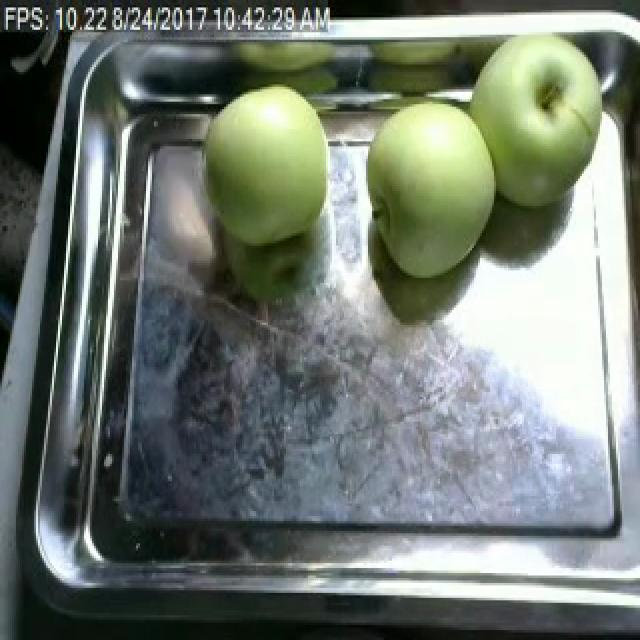50-_ripeness: (359, 105, 493, 283), (198, 83, 334, 251)
